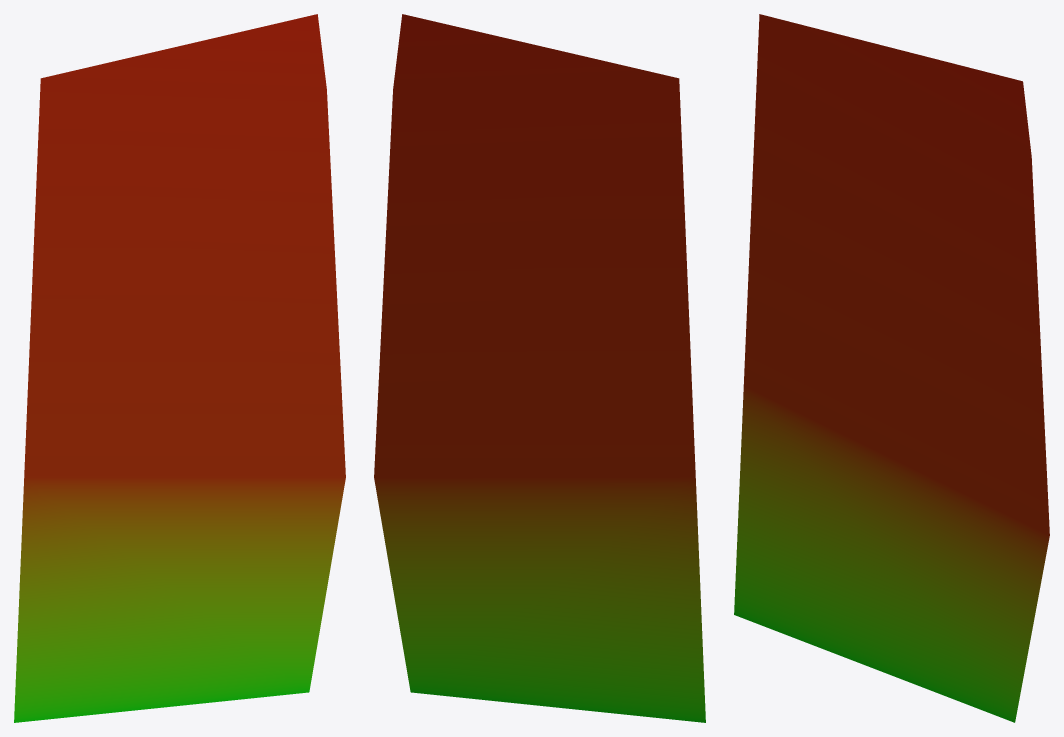
The model's file is Goldenrods_LOD7_Var8.fbx.
3 renders of one model, left to right at view 1: azimuth 30°, elevation 25°; view 2: azimuth 150°, elevation 25°; view 3: azimuth 330°, elevation 25°, orthographic. The views are drawn at different scales.
Parts seen in each view (by area): view 1: _q9qd_Var8_LOD7; view 2: _q9qd_Var8_LOD7; view 3: _q9qd_Var8_LOD7.
Boxes of the visible parts, left/top/right/bottom form: _q9qd_Var8_LOD7: left=14, top=14, right=345, bottom=722; _q9qd_Var8_LOD7: left=374, top=14, right=705, bottom=722; _q9qd_Var8_LOD7: left=734, top=14, right=1049, bottom=722.
Bounding box in the file's own units: 35.2 × 68.87 × 3.01e-06.
